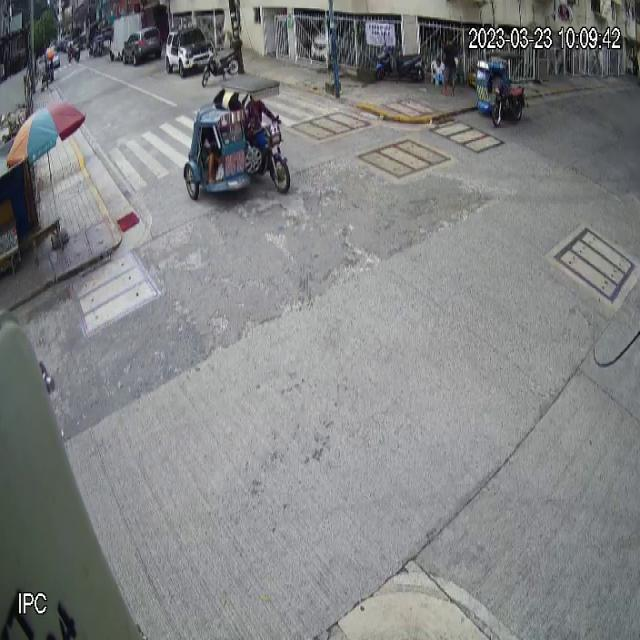Tricycle: (183, 78, 291, 202), (476, 51, 525, 128)
